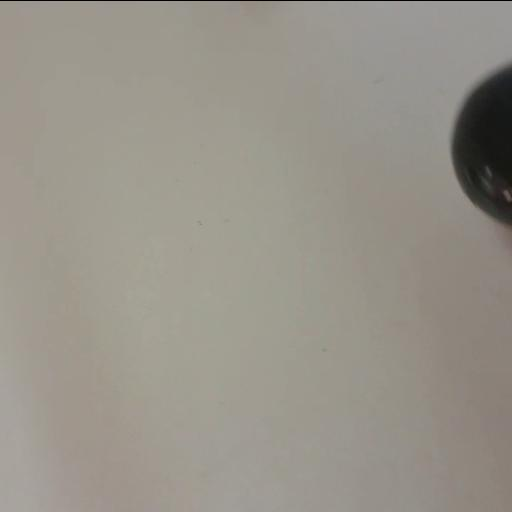dead: (447, 62, 512, 228)
